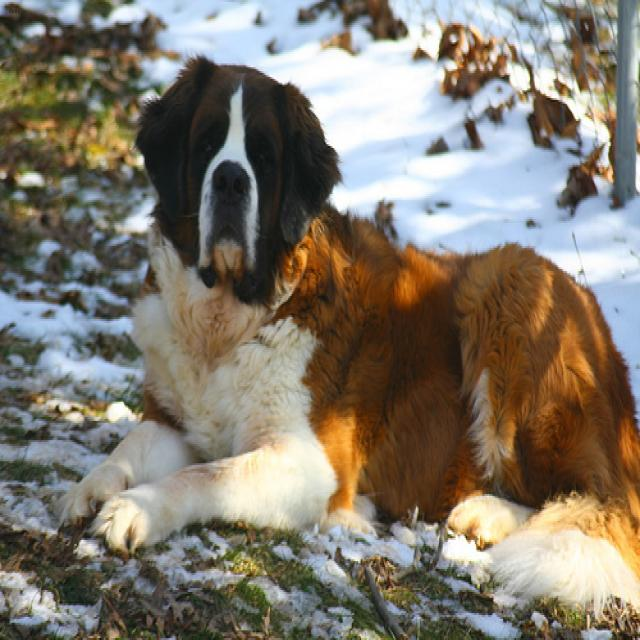dog-saint_bernard: (42, 58, 637, 613)
